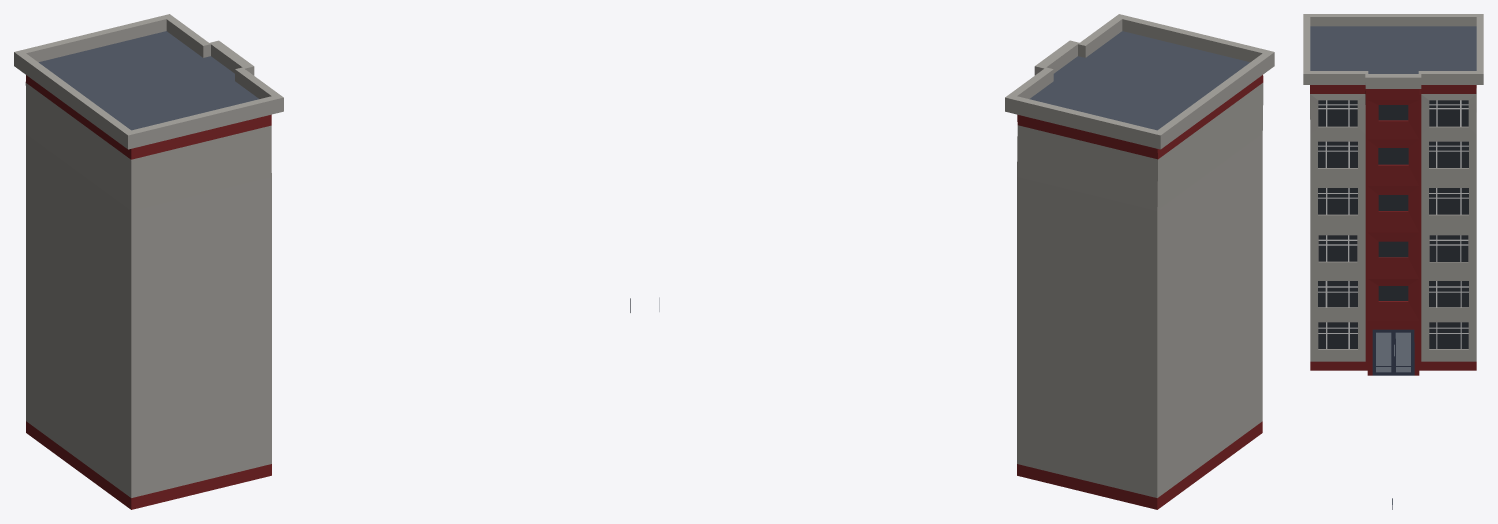
The model's file is Building_PanelBig_Red.fbx.
3 renders of one model, left to right at view 1: azimuth 30°, elevation 25°; view 2: azimuth 150°, elevation 25°; view 3: azimuth 270°, elevation 25°, orthographic. The views are drawn at different scales.
Visible parts, largest first — view 1: Cube; view 2: Cube; view 3: Cube.
Boxes of the visible parts, <box> form: Cube: <box>14,14,630,509</box>; Cube: <box>659,14,1274,509</box>; Cube: <box>1303,14,1483,509</box>.
Bounding box in the file's own units: 2544 × 1651 × 900.
